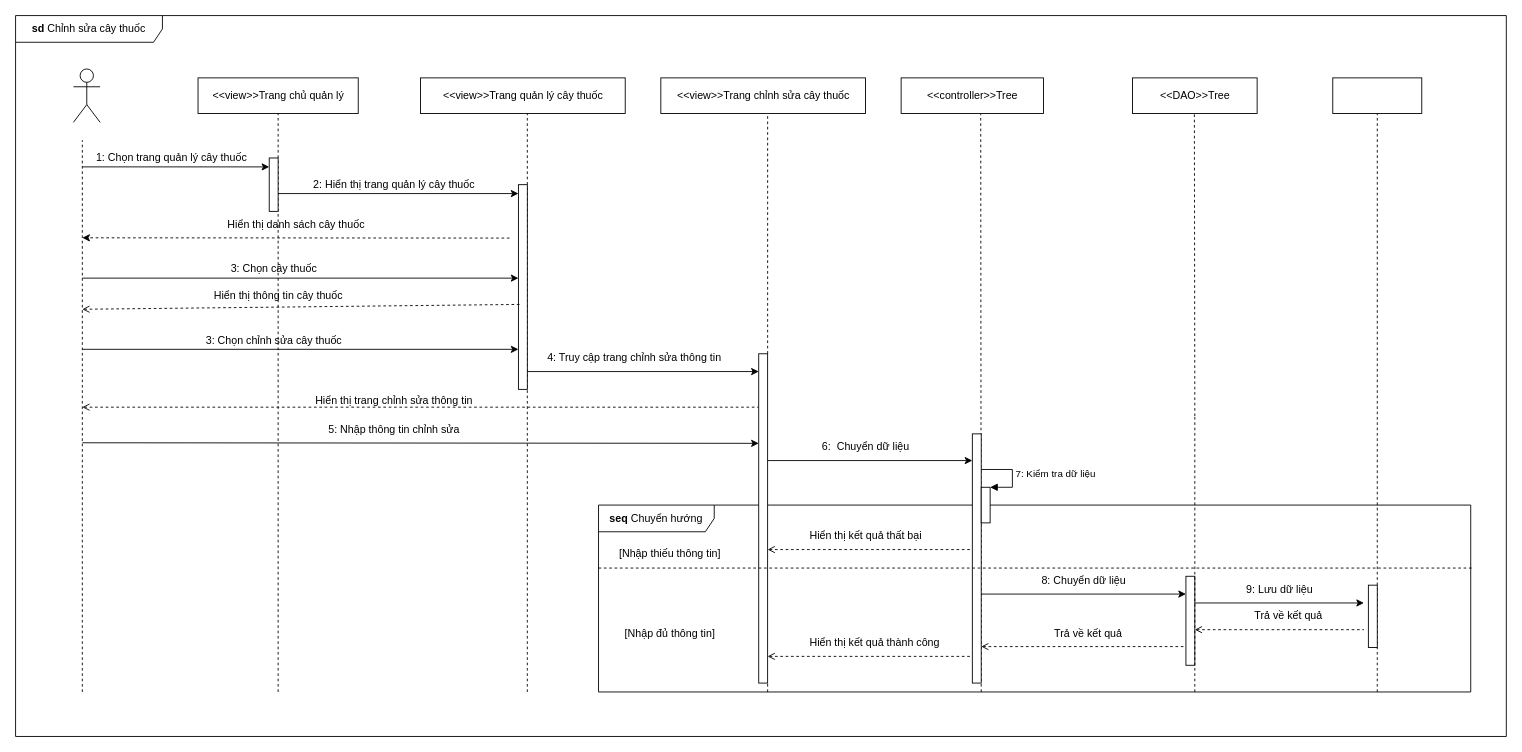
Some shapes in this 1522 by 752 pixel diagram are drawn without their labels. The shapes that lost their labels are listed below. From the top down, each one's centre as x and y in pixels, then its label:
At (86,95): "Quản lý".
At (1377,95): "Database".
